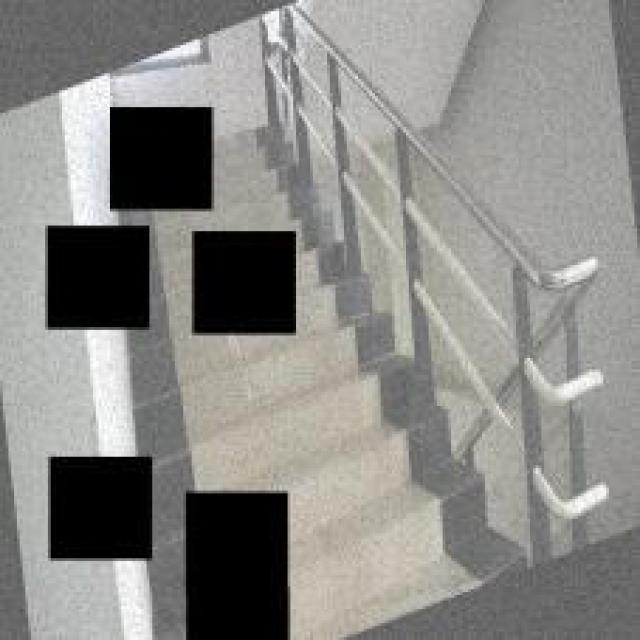upstair: (289, 351, 475, 638)
